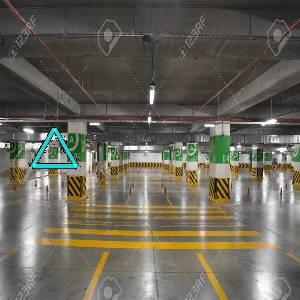triangle: (28, 124, 82, 173)
